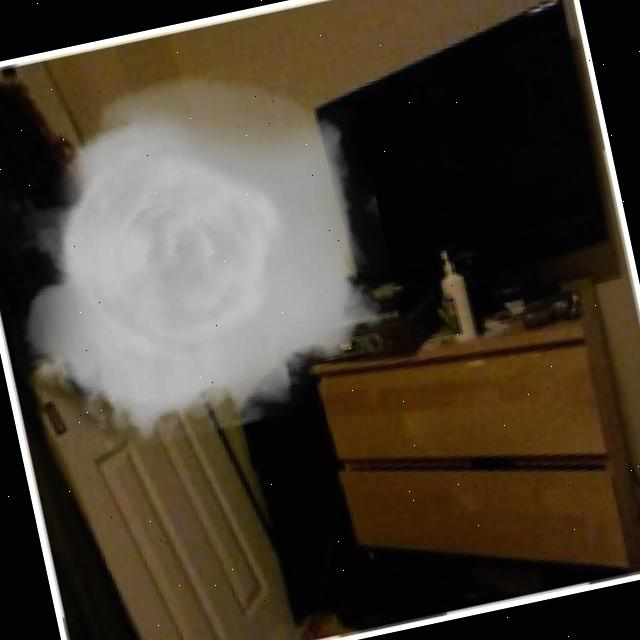smoke: (0, 40, 416, 468)
